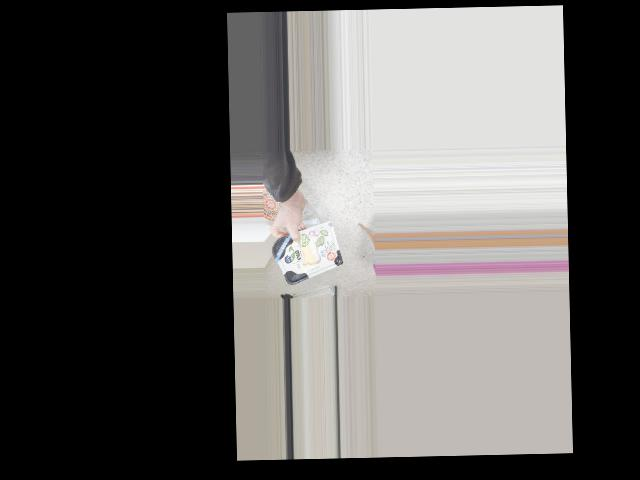cheese: (274, 227, 342, 275)
